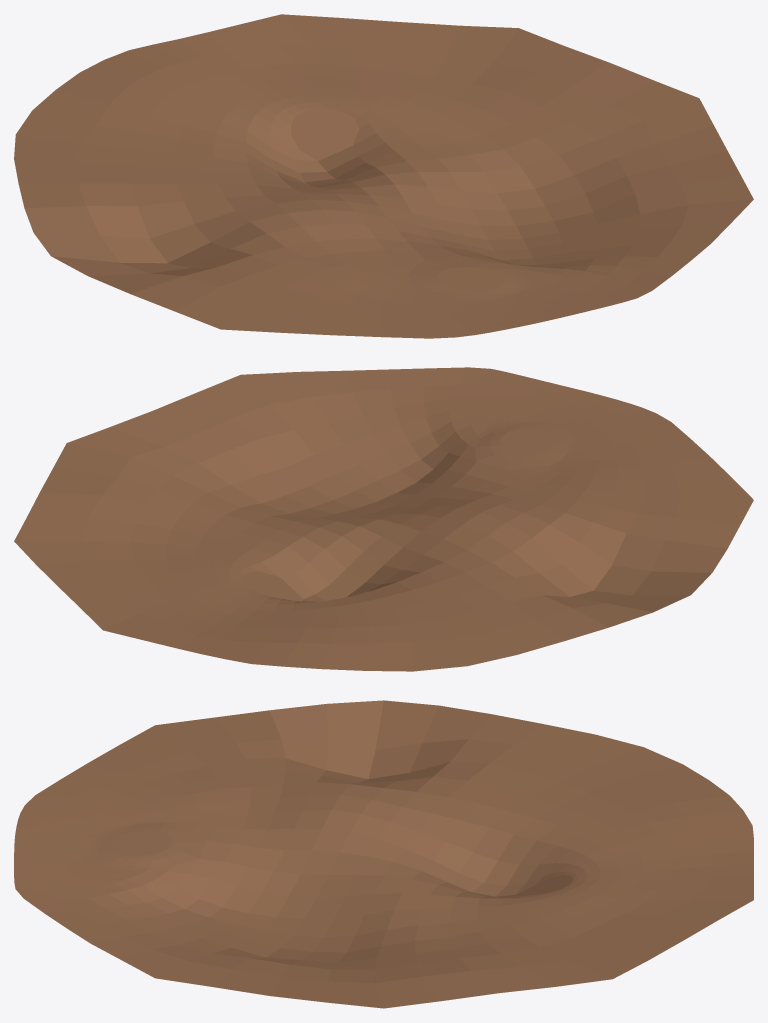
Rendered from Pedra Defesa.fbx.
3 renders of one model, top to bottom at view 1: azimuth 30°, elevation 25°; view 2: azimuth 150°, elevation 25°; view 3: azimuth 270°, elevation 25°, orthographic. The views are drawn at different scales.
Parts seen in each view (by area): view 1: Chao Veneno; view 2: Chao Veneno; view 3: Chao Veneno.
Part boxes in pixels (x1,y1,x2,y2): Chao Veneno: (14,14,753,338); Chao Veneno: (14,367,753,671); Chao Veneno: (14,700,753,1008).
Bounding box in the file's own units: 4230 × 287 × 4298.
